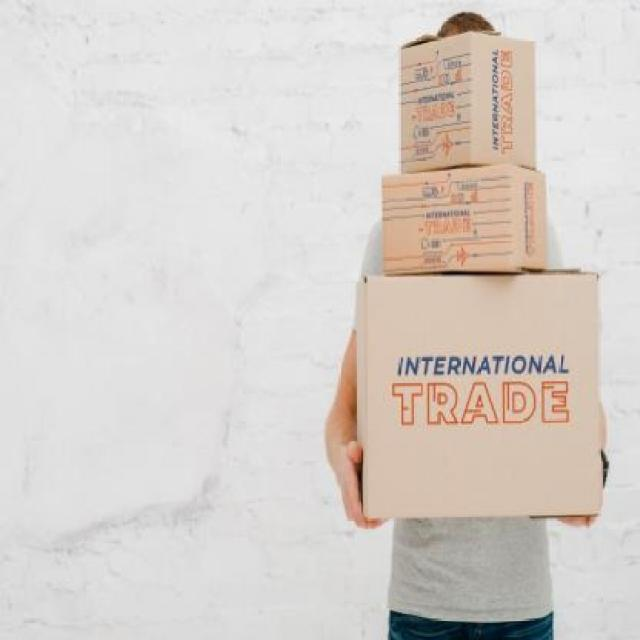box: (362, 267, 606, 523), (397, 28, 535, 171), (382, 171, 542, 273)
